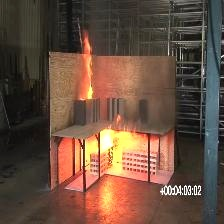fire: (71, 29, 115, 112), (94, 120, 136, 170)
